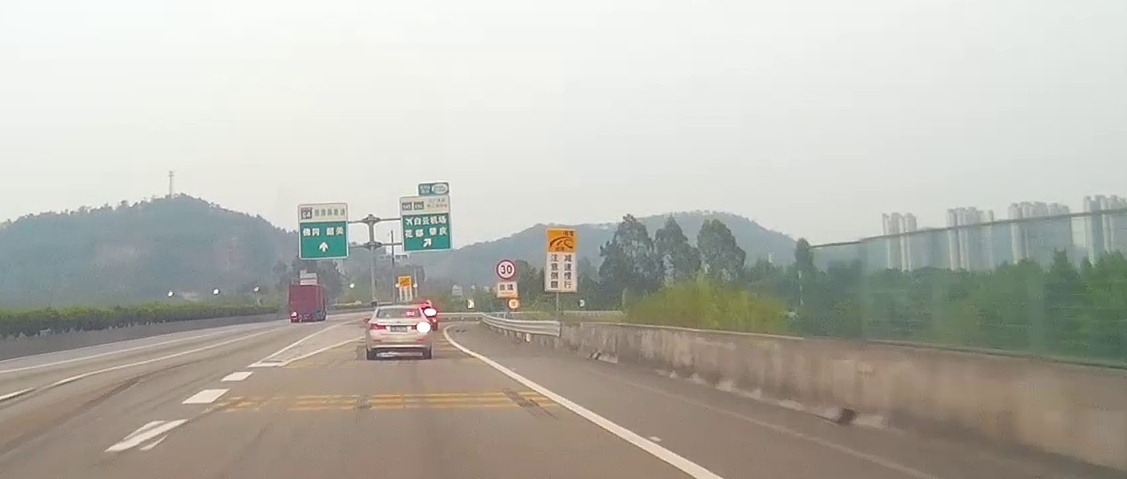L_light: (369, 323, 387, 330)
R_light: (411, 324, 429, 331)
T_light: (396, 309, 403, 311)
day-right: (366, 305, 431, 360)
